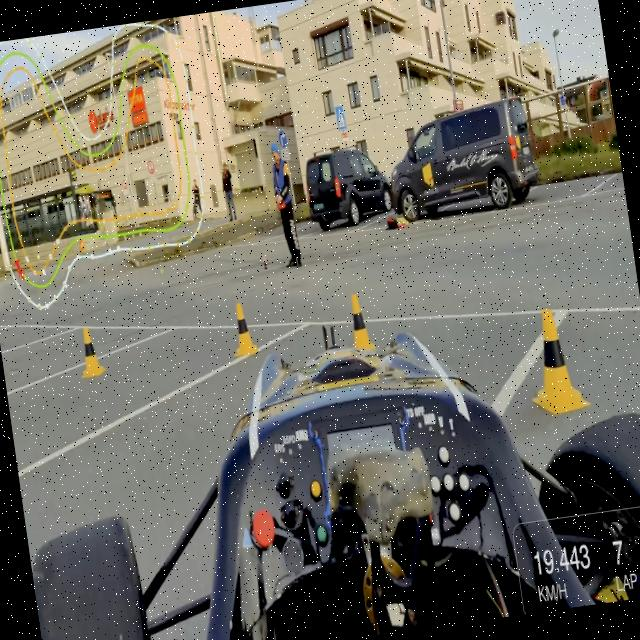yellow_cone: (526, 299, 586, 417), (338, 286, 386, 356), (222, 292, 266, 368), (72, 315, 114, 393)
